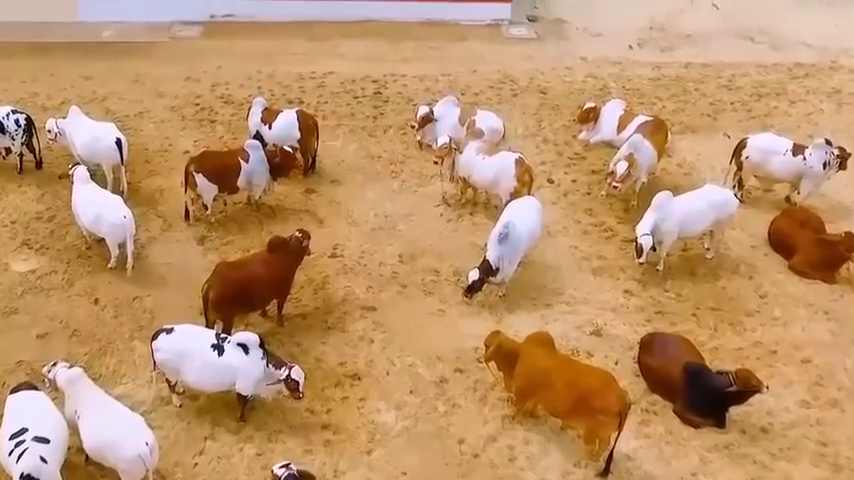bo: (481, 325, 628, 472), (137, 322, 312, 426), (637, 310, 769, 438), (38, 354, 167, 479), (199, 223, 313, 337), (450, 184, 553, 307), (618, 178, 743, 274), (51, 161, 152, 275), (729, 124, 854, 211), (172, 139, 293, 223), (40, 99, 142, 195), (763, 197, 852, 292), (240, 86, 328, 178), (434, 135, 542, 207), (5, 376, 79, 480), (572, 91, 668, 160), (408, 92, 504, 155), (602, 114, 669, 203), (4, 101, 44, 183), (265, 456, 321, 478)
